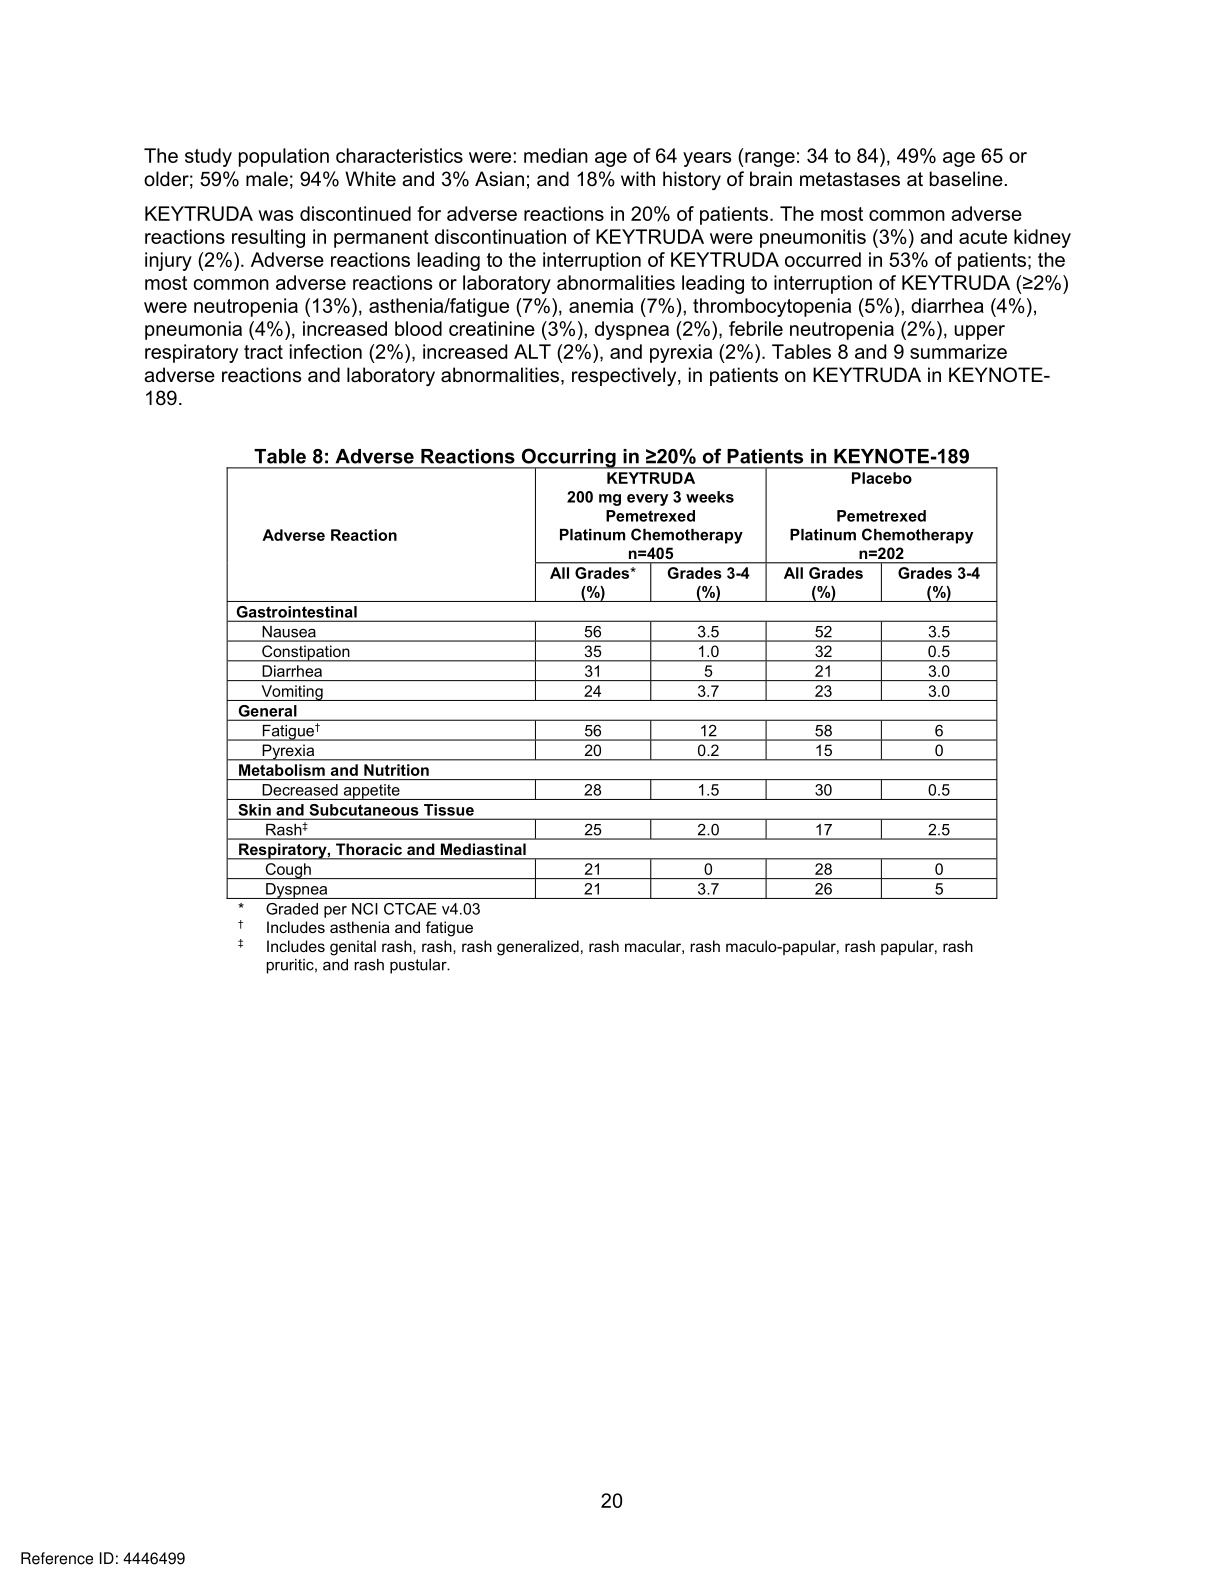merged_cells: (225, 465, 998, 899)
